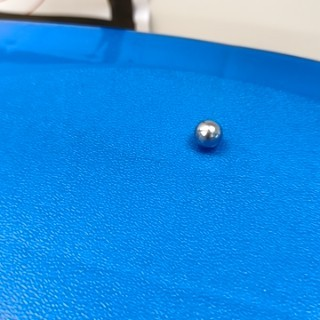ironball: (190, 114, 230, 154)
